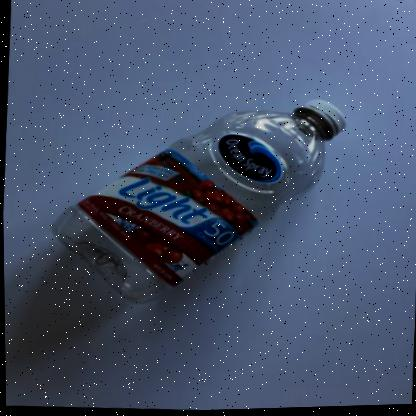Plastic: (52, 100, 344, 303)
